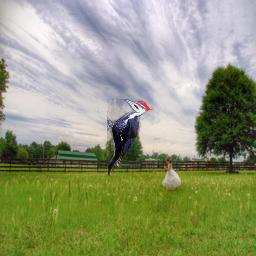Woodpecker: (107, 99, 155, 178)
